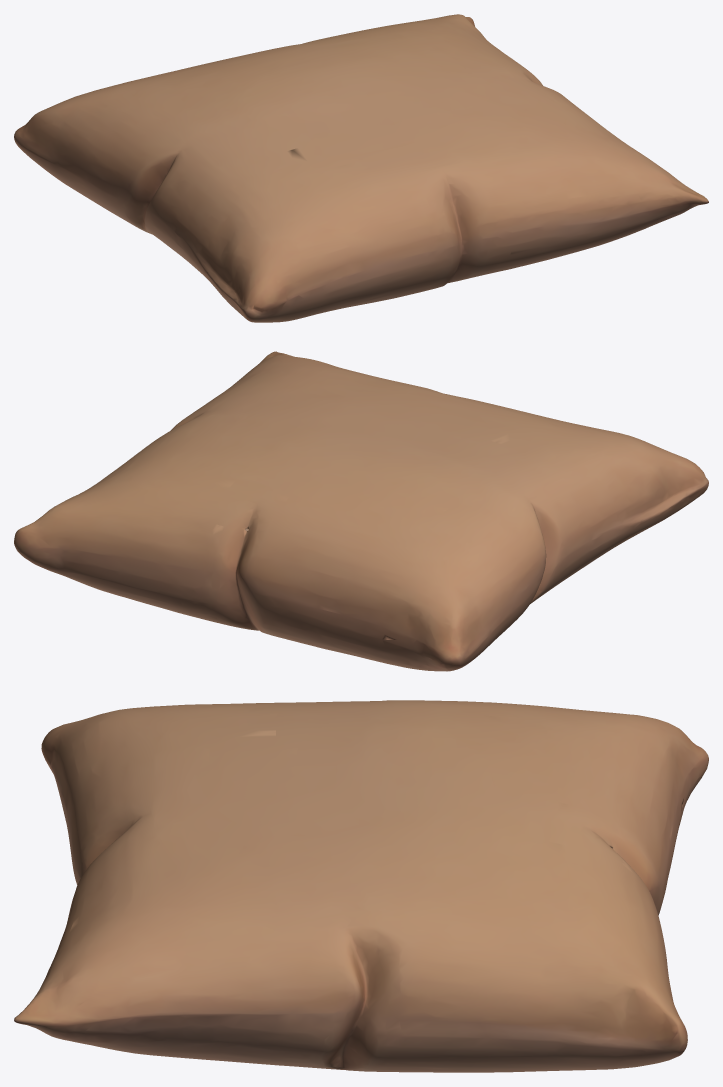
3 views of the same model, one above another, from view 1: azimuth 30°, elevation 25°; view 2: azimuth 150°, elevation 25°; view 3: azimuth 270°, elevation 25° (orthographic). The views are drawn at different scales.
Visible parts, largest first — view 1: world; view 2: world; view 3: world.
Part boxes in pixels (bbox=[...]): world: bbox=[14, 14, 708, 322]; world: bbox=[14, 351, 708, 671]; world: bbox=[14, 700, 708, 1072].
Size of the model in its own units: 0.9997 by 0.2937 by 0.972.
